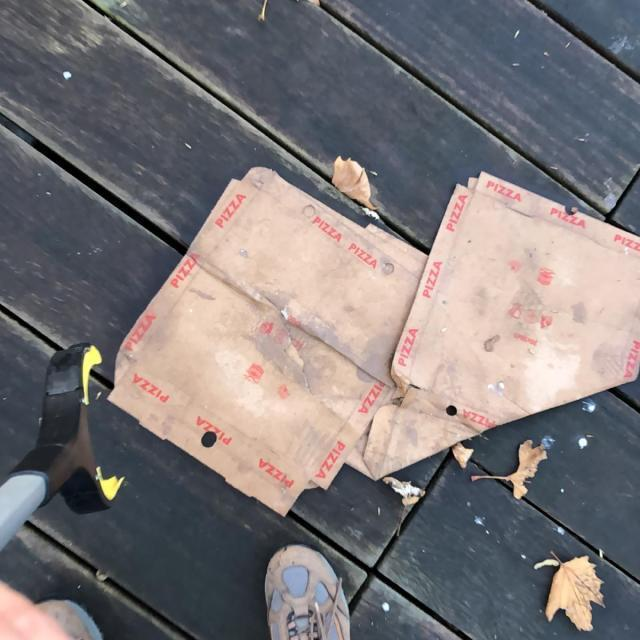Paper: (102, 164, 639, 519)
